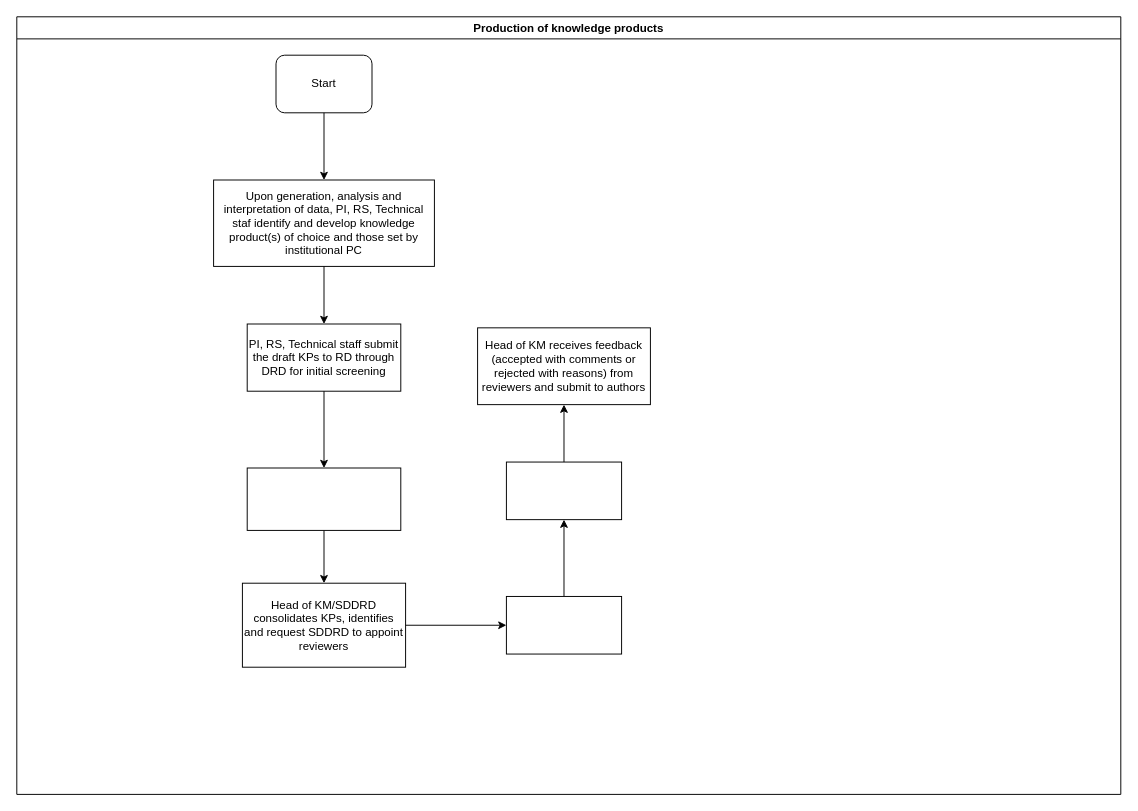
Image size: 1138x811. Some labels were removed from this diagram. The centre of each missing label's shape, as x and y in pixels:
DRD/RD submit draft KPs to Head of KM with copies to DD and SDDRD: the point at 323,498
Head of KM submits draft KPs to reviewers: the point at 563,624
Reviewers review and submit with comments to Head KM: the point at 563,490
